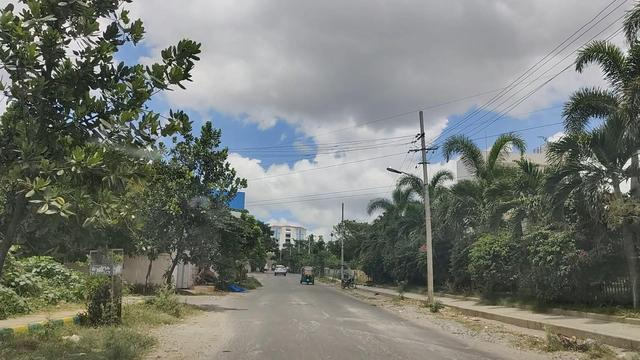RoadDamages: (319, 316, 437, 358)
